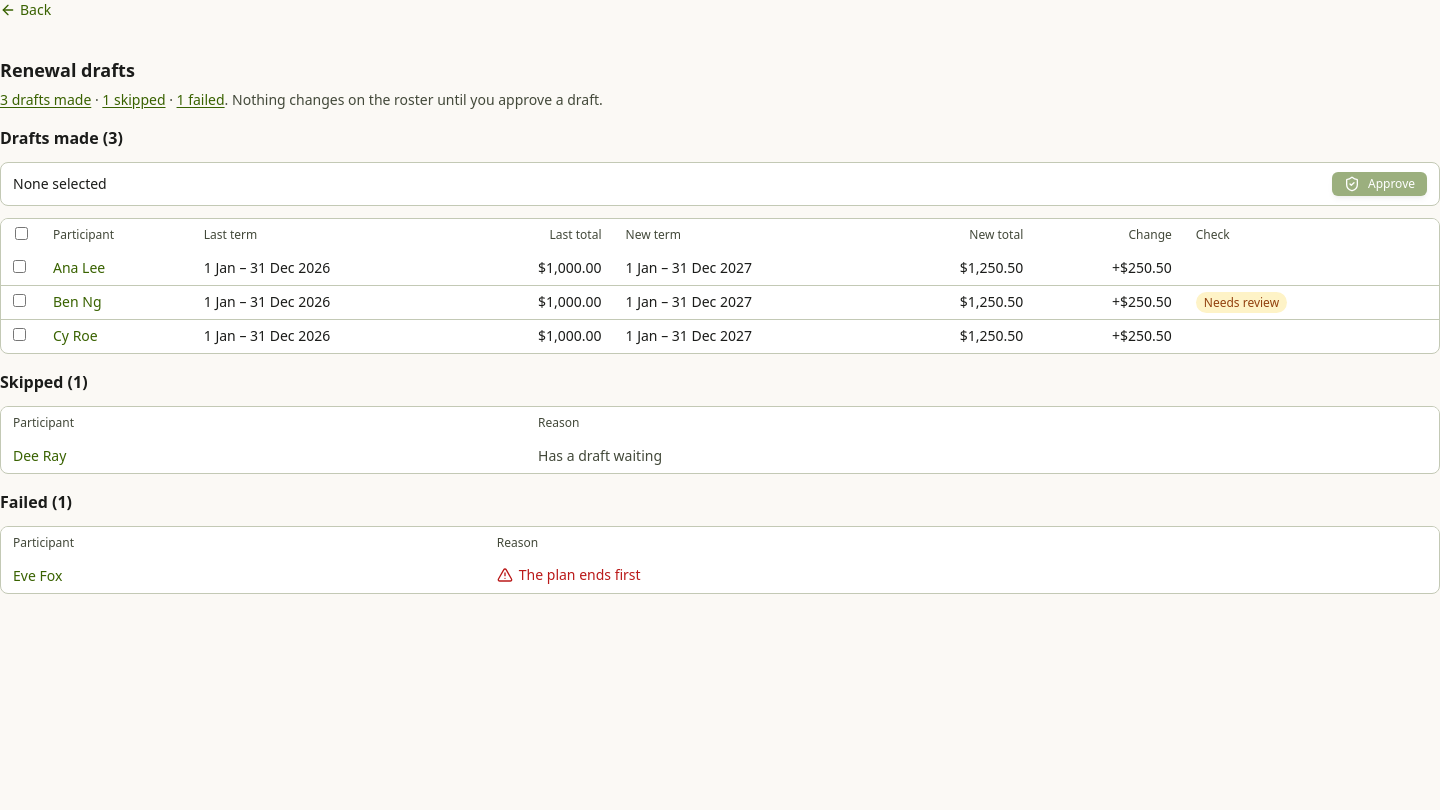
it: AgreementsReview › says under the outcome why an approved one was not moved to Active
The image size is (1440, 810).
Click the checkbox named "Select row a" at (20, 266), box x1=13 y1=260 x2=26 y2=273
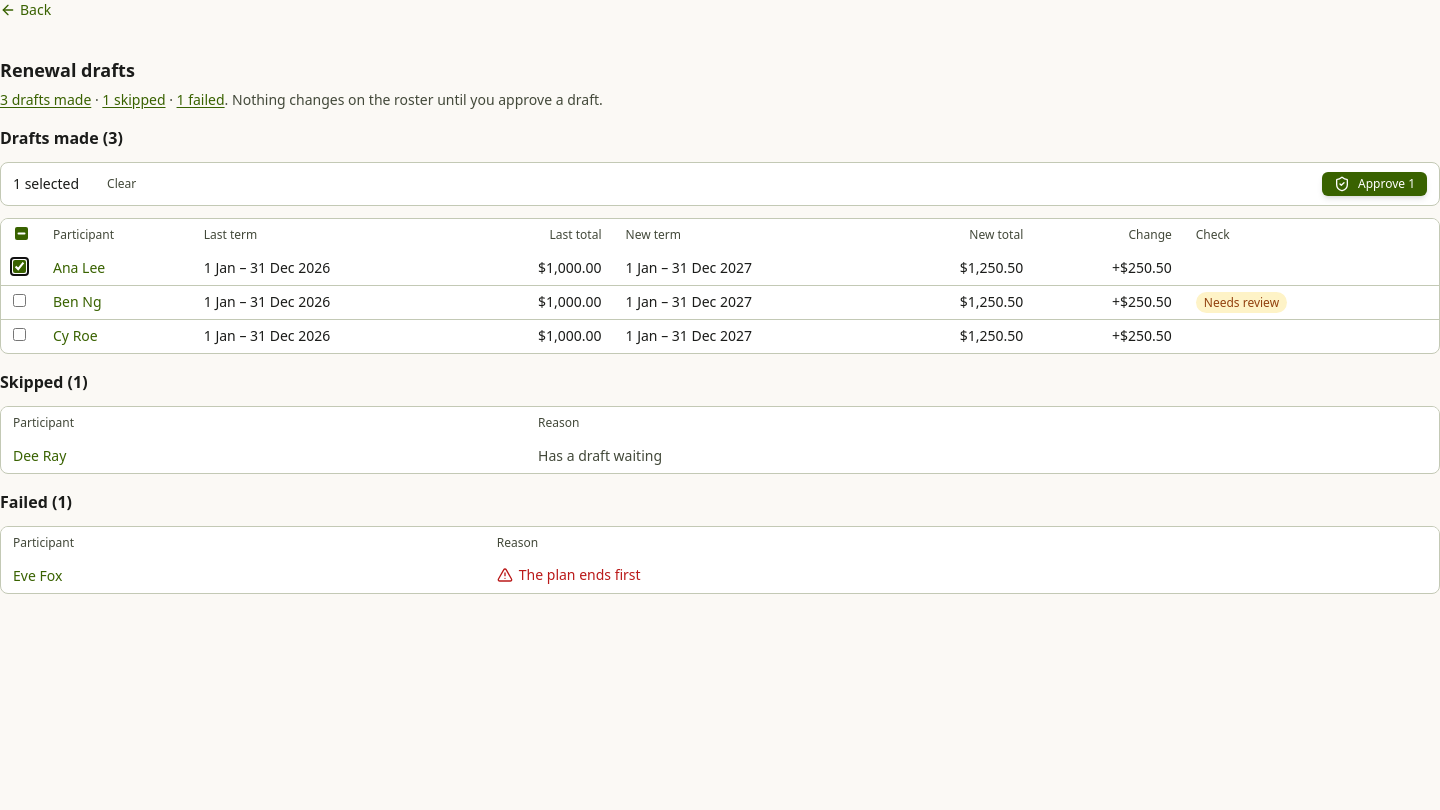
Click the button "Approve 1" at (1374, 184), box x1=1322 y1=172 x2=1427 y2=196
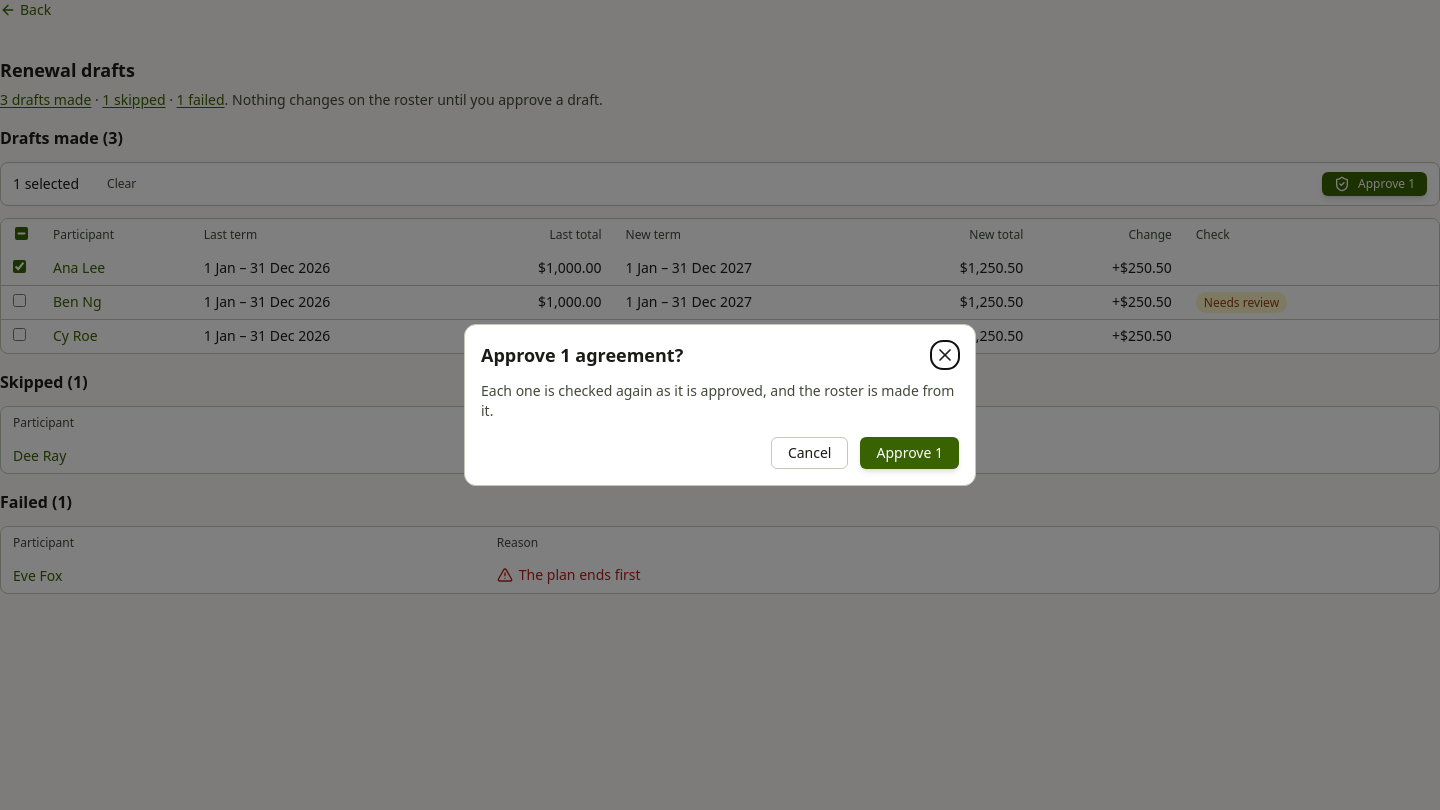
Click the button "Approve 1" at (910, 453), box x1=860 y1=437 x2=959 y2=469
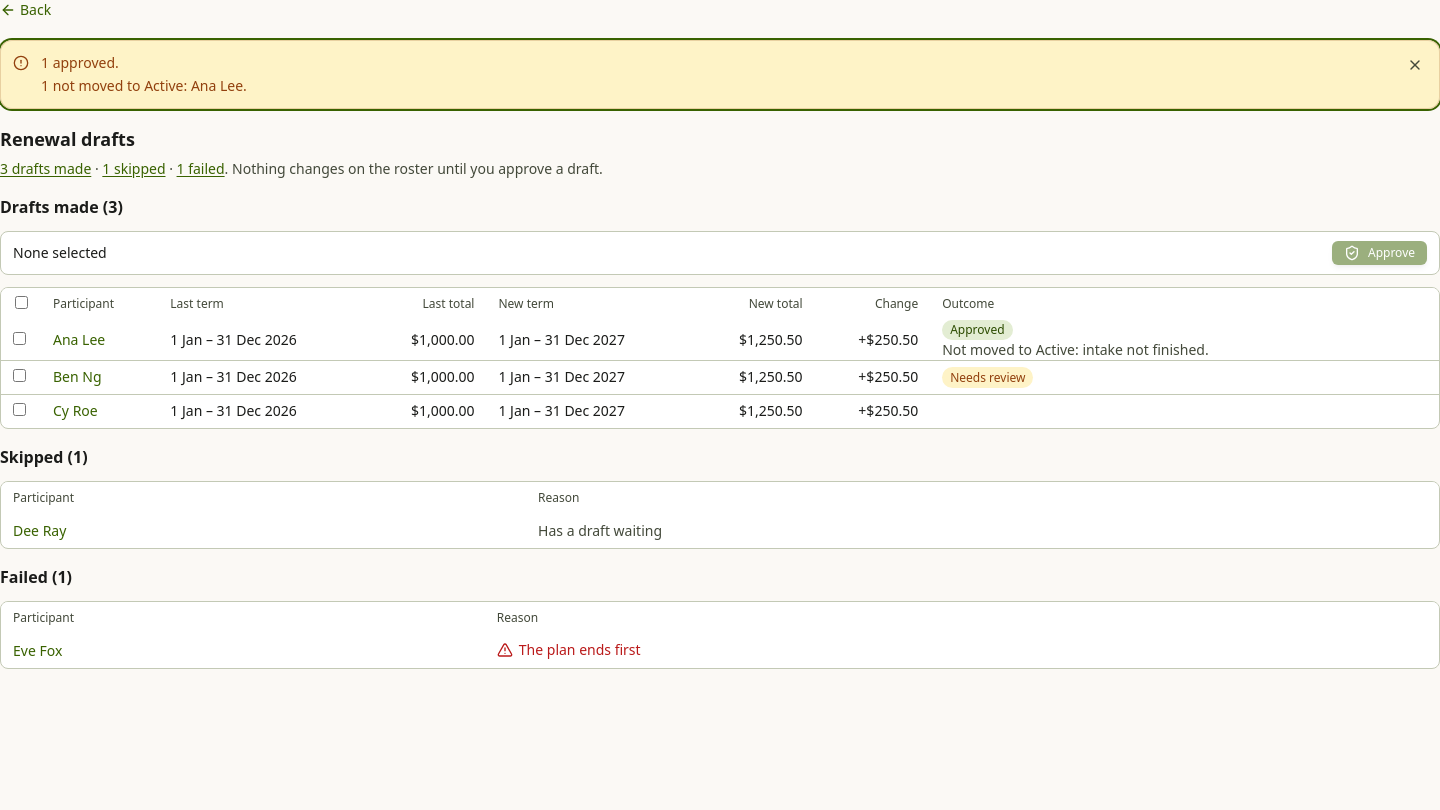
Now the text "Approved" is shown, box x1=942 y1=320 x2=1013 y2=340
Now the text "Not moved to Active: intake not finished." is shown, box x1=942 y1=340 x2=1209 y2=358
